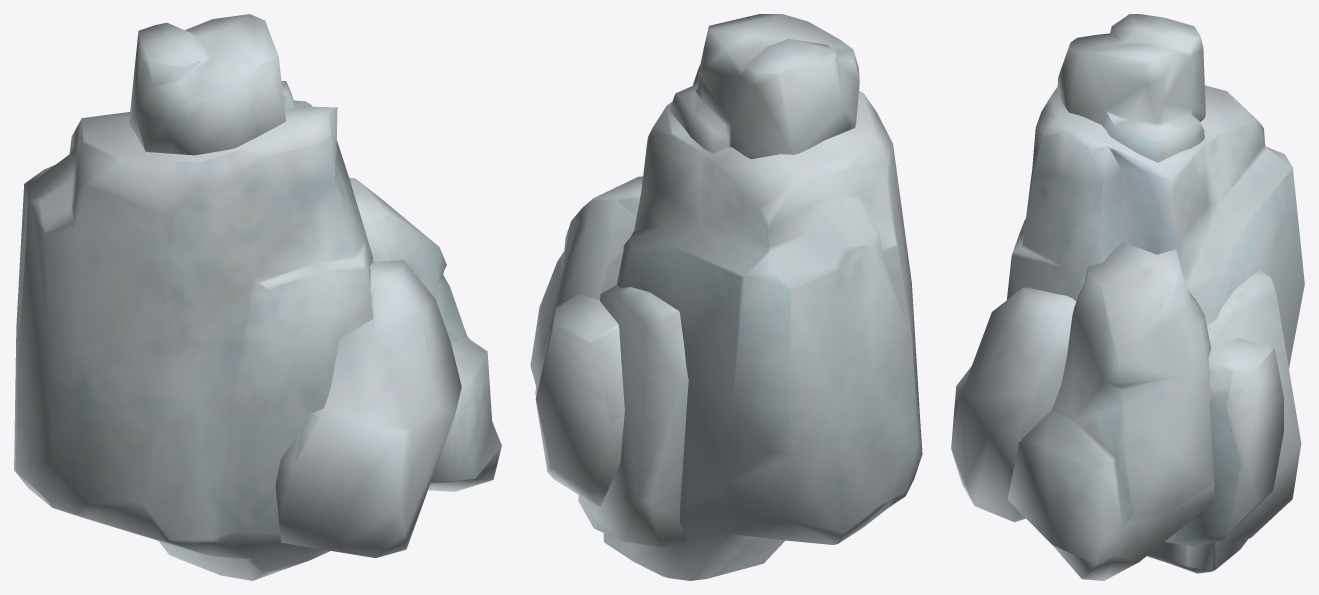
The model's file is P_RockSpire_RockClumpB04.obj.
3 renders of one model, left to right at view 1: azimuth 30°, elevation 25°; view 2: azimuth 150°, elevation 25°; view 3: azimuth 270°, elevation 25°, orthographic. The views are drawn at different scales.
Bounding box in the file's own units: 12.2 × 14.63 × 9.81.
